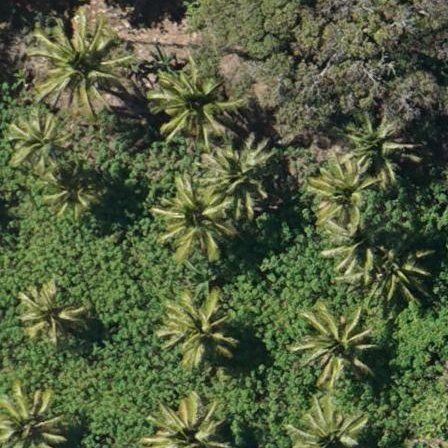palm_tree: (294, 300, 382, 394), (157, 286, 238, 373), (151, 63, 229, 147), (36, 19, 109, 96), (205, 142, 275, 215), (144, 392, 230, 448), (308, 156, 376, 225), (17, 279, 85, 345), (288, 393, 368, 448), (163, 182, 225, 248), (7, 112, 66, 174), (1, 390, 62, 448)
